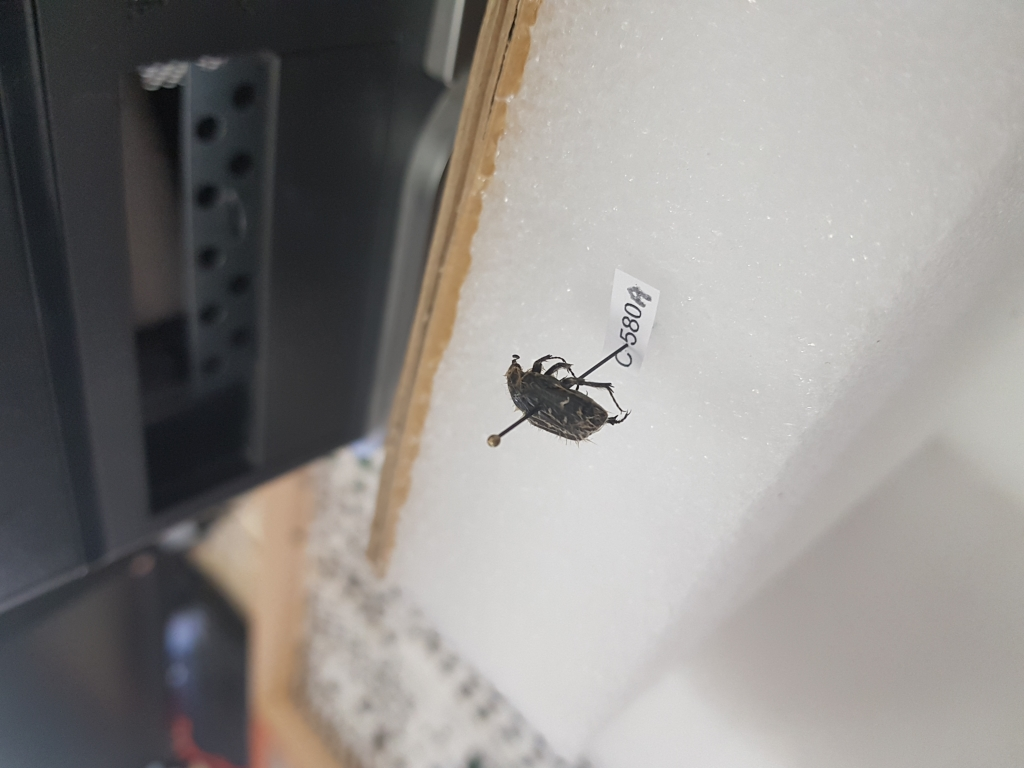Tropinota_hirta: (500, 350, 631, 444)
